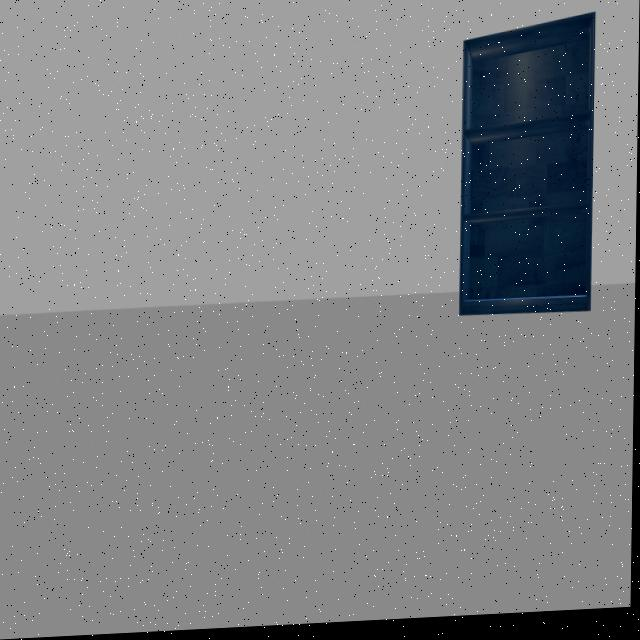shelf: (451, 2, 605, 346)
